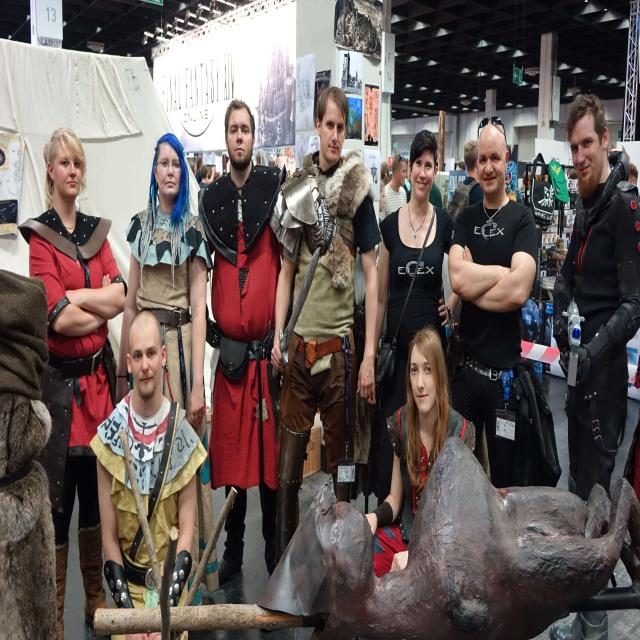body: (288, 0, 462, 511), (16, 123, 134, 640), (269, 86, 382, 568), (545, 88, 640, 640), (114, 131, 221, 610), (197, 99, 288, 588), (88, 304, 217, 640), (446, 114, 538, 488), (364, 322, 477, 579), (446, 138, 484, 224), (379, 152, 408, 224), (429, 158, 466, 212), (186, 153, 219, 194), (376, 159, 394, 231), (515, 168, 538, 206), (253, 150, 282, 178), (626, 161, 640, 195), (563, 167, 578, 188), (403, 170, 413, 199)
